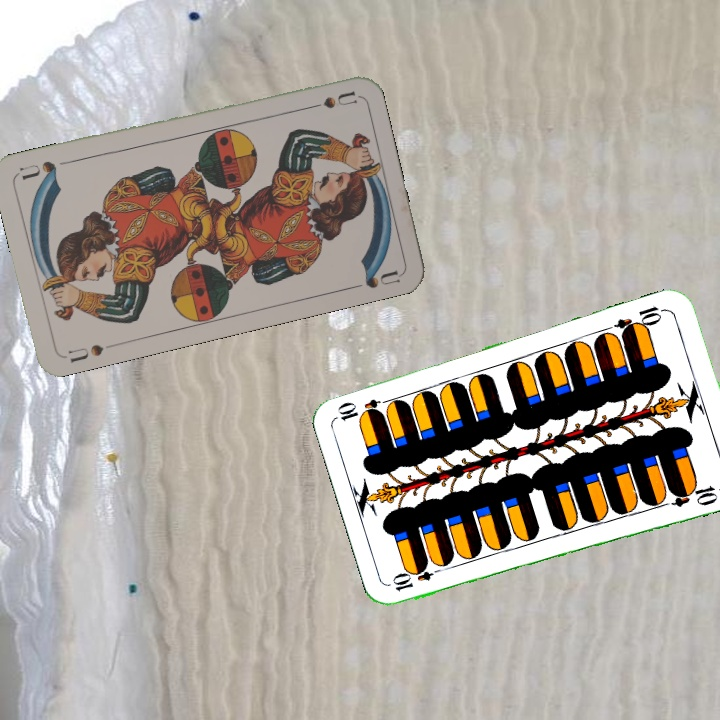E10: (611, 301, 669, 338), (388, 561, 447, 594)
SU: (299, 87, 358, 113), (64, 340, 106, 366)
